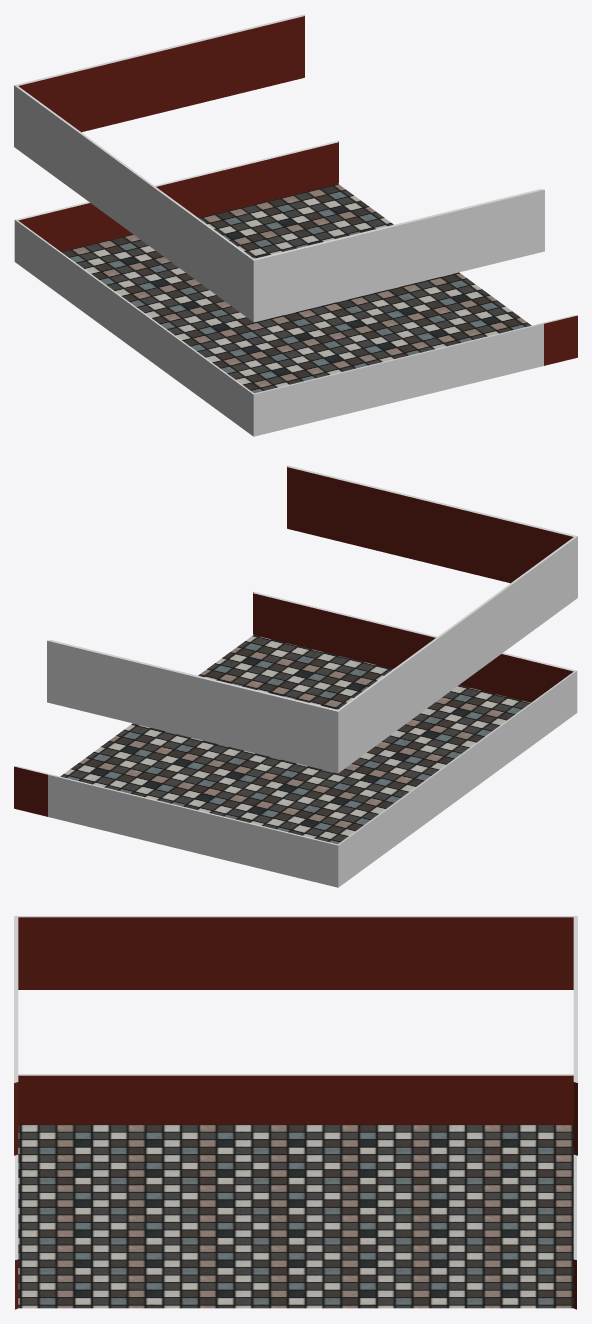
The model's file is DiningWalls.fbx.
The picture shows the model from 3 angles, top to bottom: view 1: azimuth 30°, elevation 25°; view 2: azimuth 150°, elevation 25°; view 3: azimuth 270°, elevation 25°; orthographic projection. The views are drawn at different scales.
Visible parts, largest first — view 1: Roof.013, Roof.038, Roof.027; view 2: Roof.013, Roof.038, Roof.027; view 3: Roof.038, Roof.013, Roof.027.
Boxes of the visible parts, bbox=[...] form: Roof.013: bbox=[14, 14, 544, 322]; Roof.038: bbox=[61, 184, 531, 393]; Roof.027: bbox=[14, 140, 577, 436]; Roof.013: bbox=[47, 465, 577, 773]; Roof.038: bbox=[60, 635, 530, 844]; Roof.027: bbox=[14, 591, 577, 887]; Roof.038: bbox=[18, 1124, 573, 1308]; Roof.013: bbox=[14, 916, 577, 1155]; Roof.027: bbox=[15, 1074, 576, 1309].
Bounding box in the file's own units: 733 × 380 × 937.
3 materials, 1 textured.
